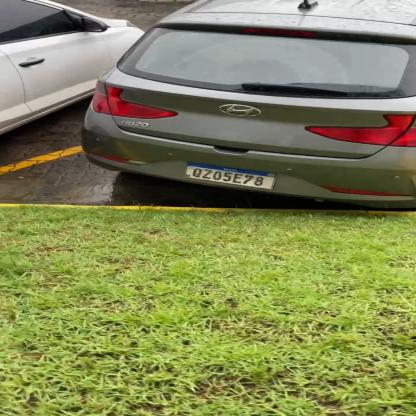Plate: (186, 158, 280, 194)
